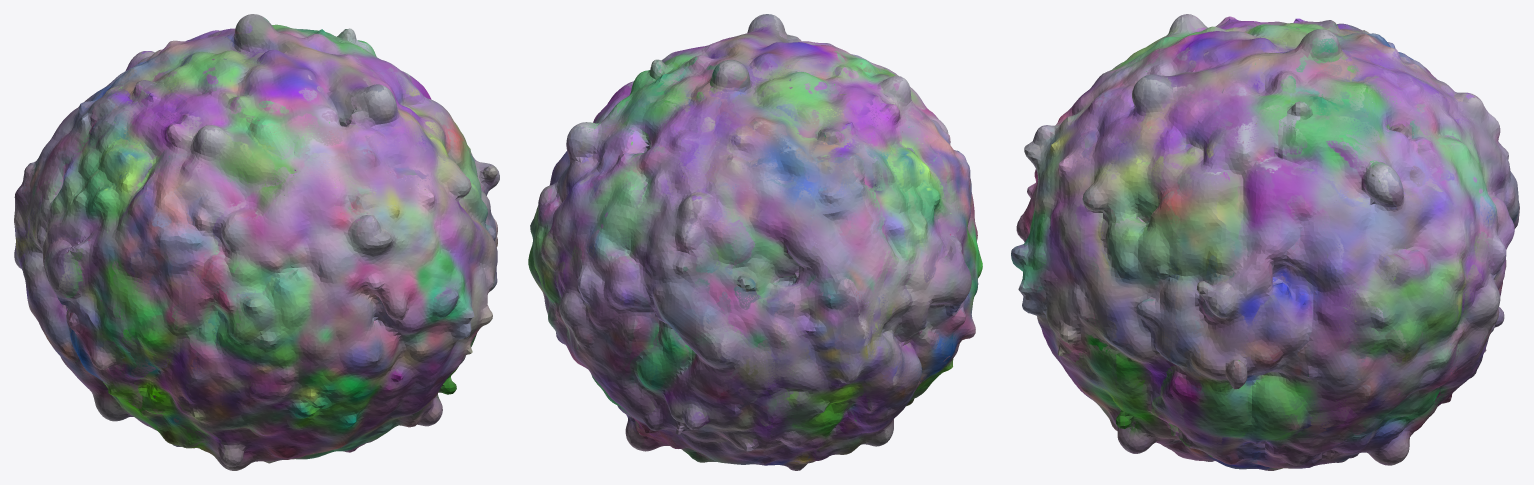
The model's file is soccer_mesh.glb.
3 renders of one model, left to right at view 1: azimuth 30°, elevation 25°; view 2: azimuth 150°, elevation 25°; view 3: azimuth 270°, elevation 25°, orthographic. The views are drawn at different scales.
Size of the model in its own units: 1.76 by 1.63 by 1.75.
Materials: 1 (1 with a texture image).
